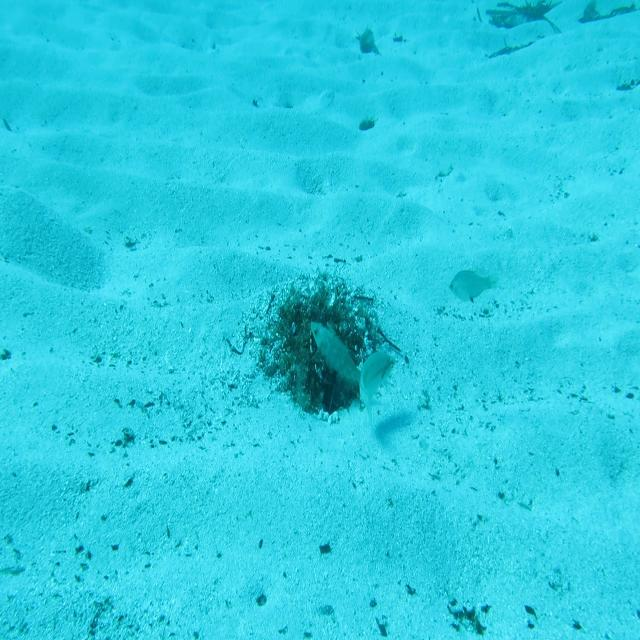SHAK: (308, 315, 366, 393)
female: (356, 344, 399, 426)
nest: (258, 274, 404, 421)
other_fish: (446, 264, 502, 312)
